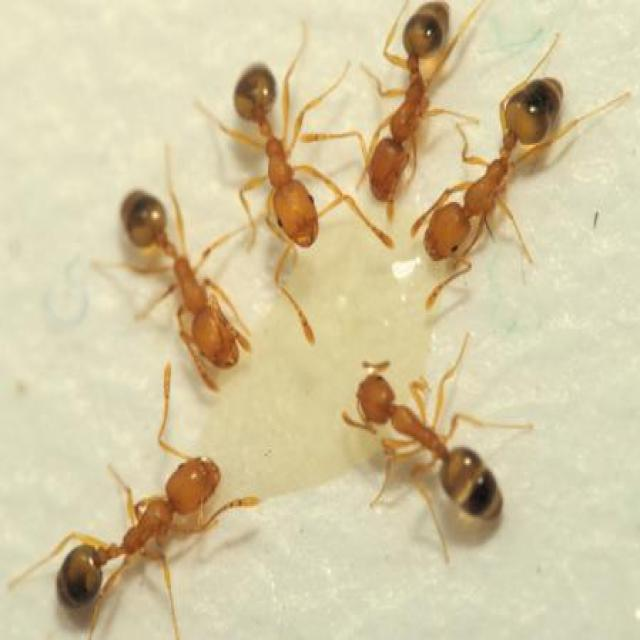ants: (395, 66, 579, 297), (79, 155, 254, 387), (43, 440, 251, 634), (344, 348, 519, 547), (332, 0, 462, 236), (207, 59, 327, 252)
